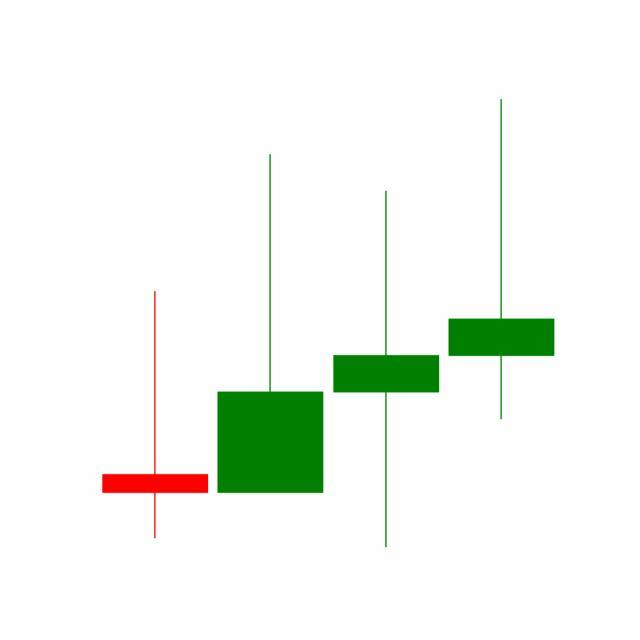Spinning Top: (329, 187, 445, 552)
